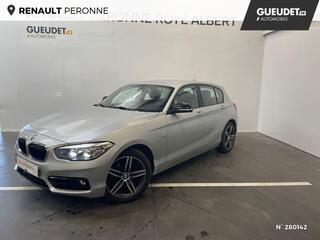car: (14, 75, 242, 203)
